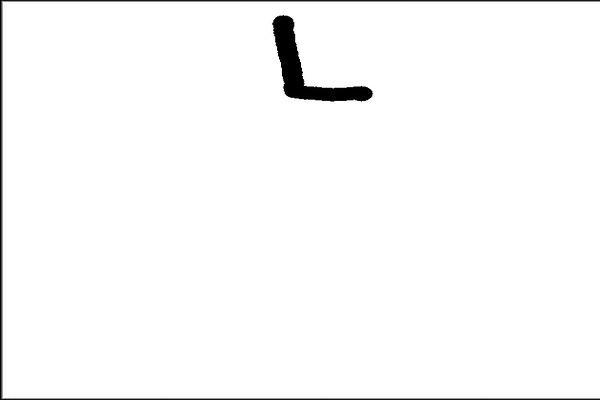L: (269, 10, 379, 104)
